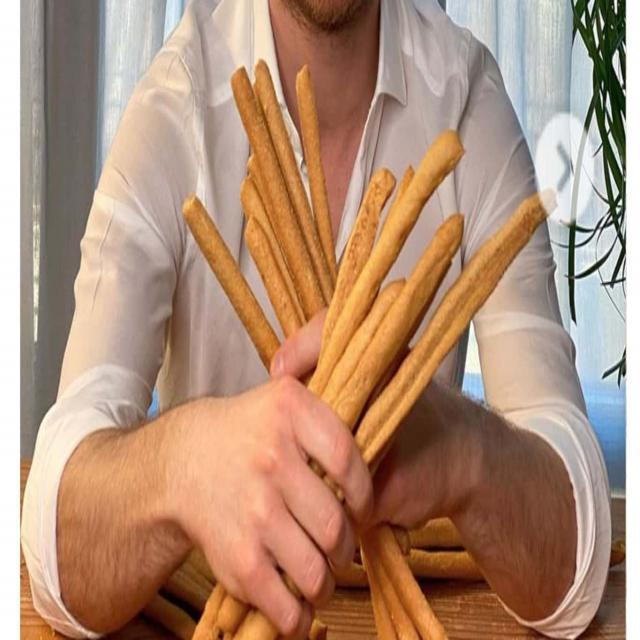Grissini: (196, 70, 515, 640)
